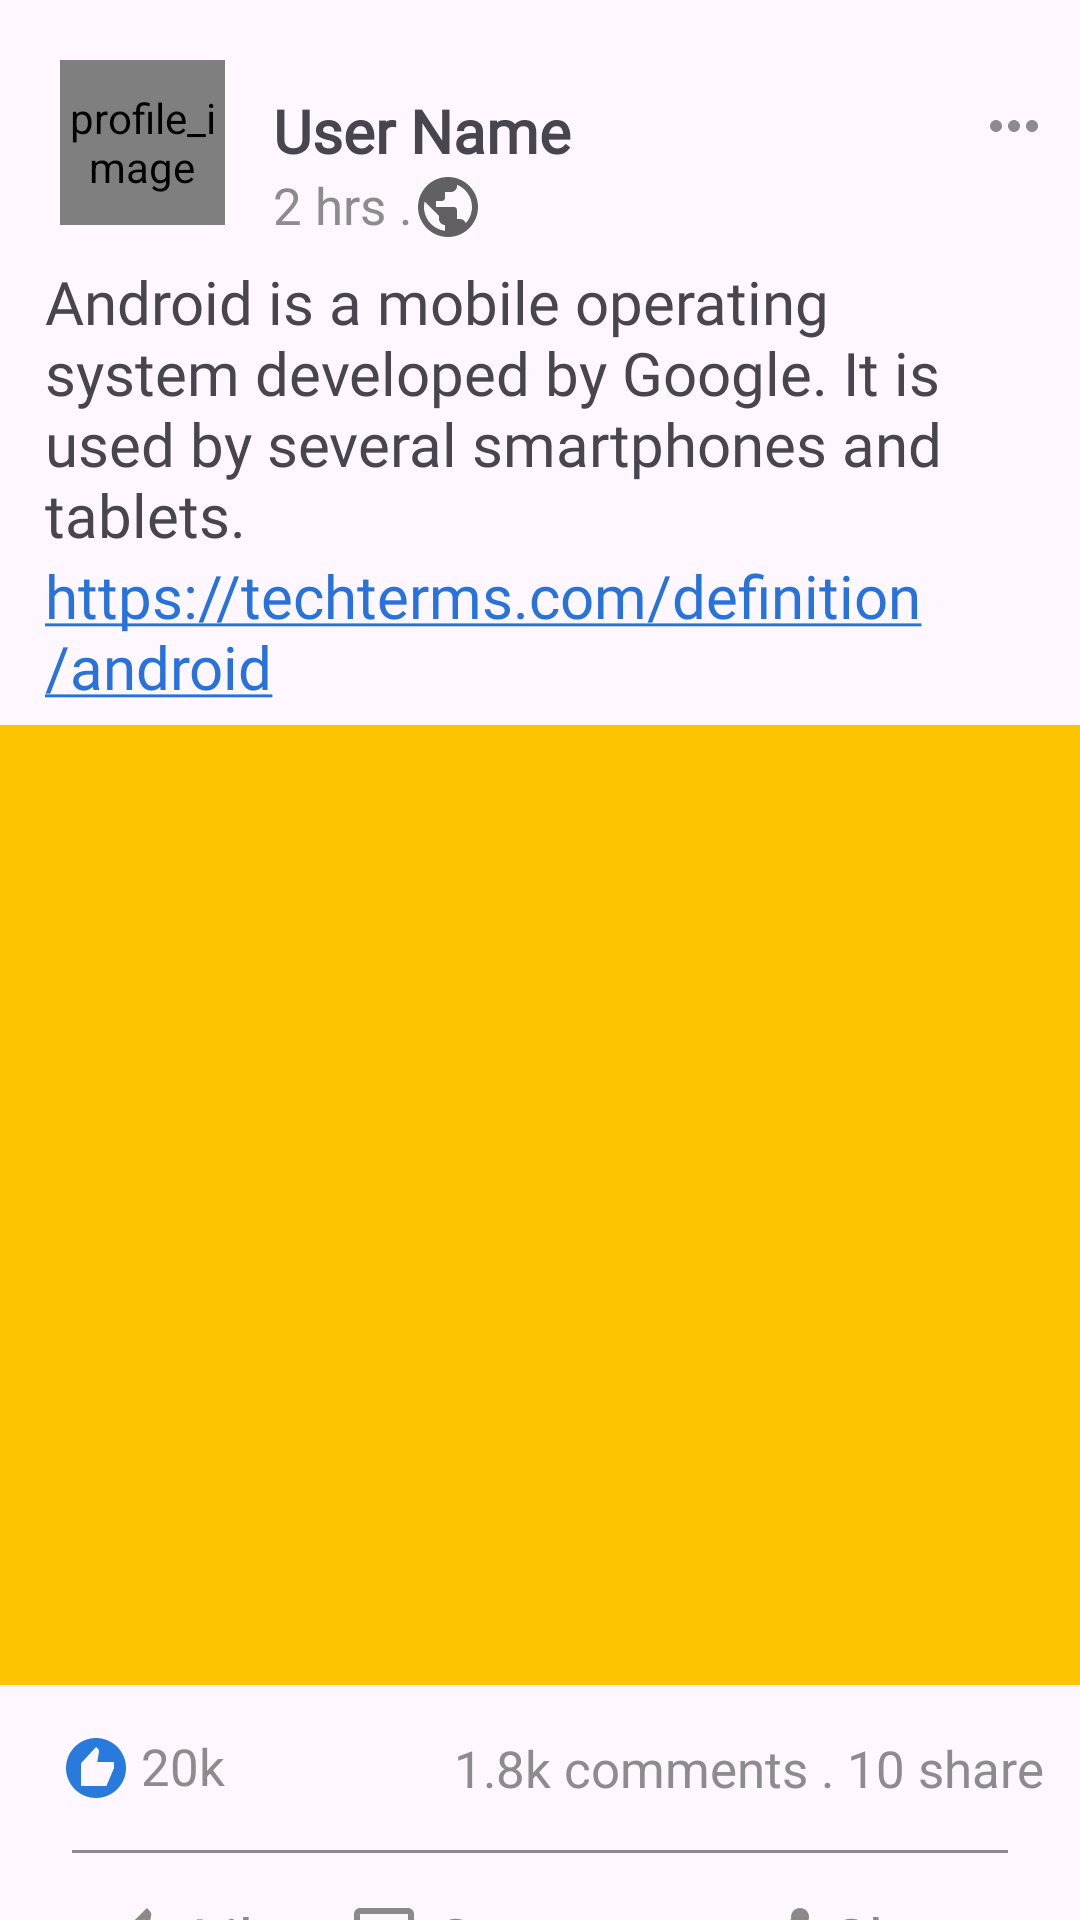

Icon click points for this 1080px x 1920px phone screenshot, format (x,y):
more: (1014,126)
Public: (448,207)
